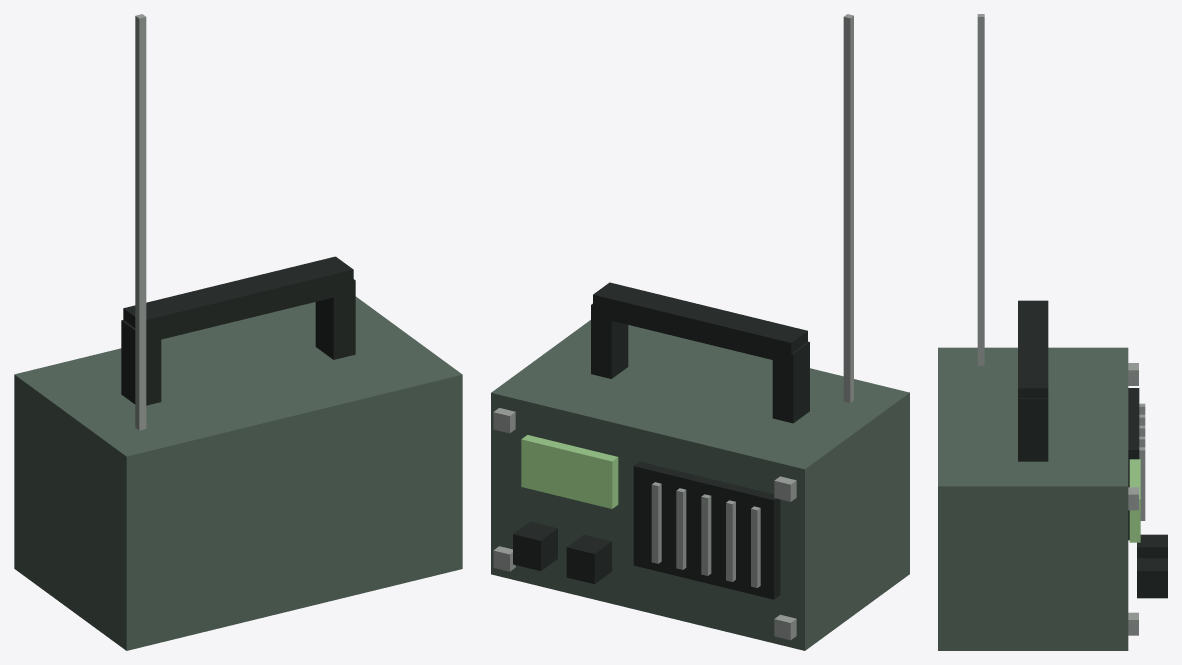
File: FieldRadio.glb
3 views of the same model, side by side, from view 1: azimuth 30°, elevation 25°; view 2: azimuth 150°, elevation 25°; view 3: azimuth 270°, elevation 25° (orthographic). The views are drawn at different scales.
Visible parts, largest first — view 1: FieldRadio; view 2: FieldRadio; view 3: FieldRadio.
Part boxes in pixels (x1,y1,x2,y2): FieldRadio: (14,14,462,650); FieldRadio: (491,14,909,650); FieldRadio: (938,14,1167,650).
Bounding box in the file's own units: 0.38 × 0.655 × 0.266.
